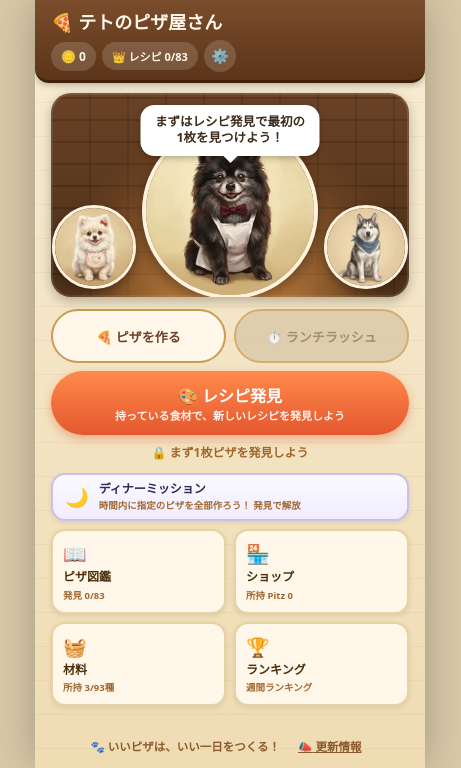
Inventory Screen (read-only stock view) › opens the Inventory overlay from HOME without leaving HOME underneath
Click the button "🧺 材料 所持 3/93種" at (138, 664), box [51, 622, 226, 706]
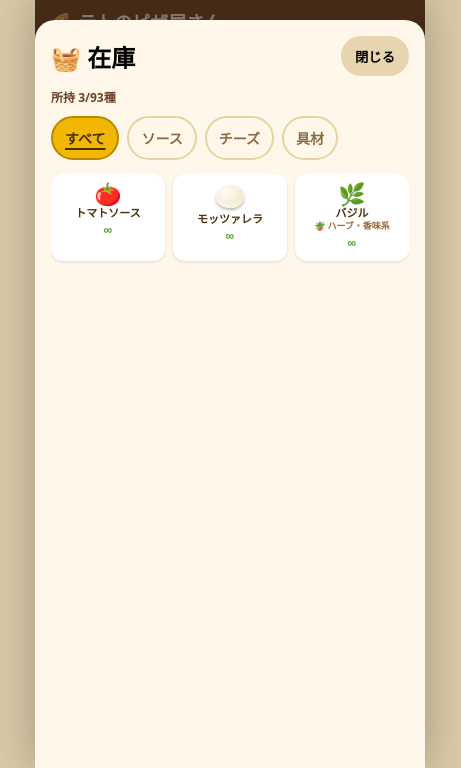
Check: the element with class "dex-overlay" is shown
Check: the element with class "inventory-overlay__panel" is shown
